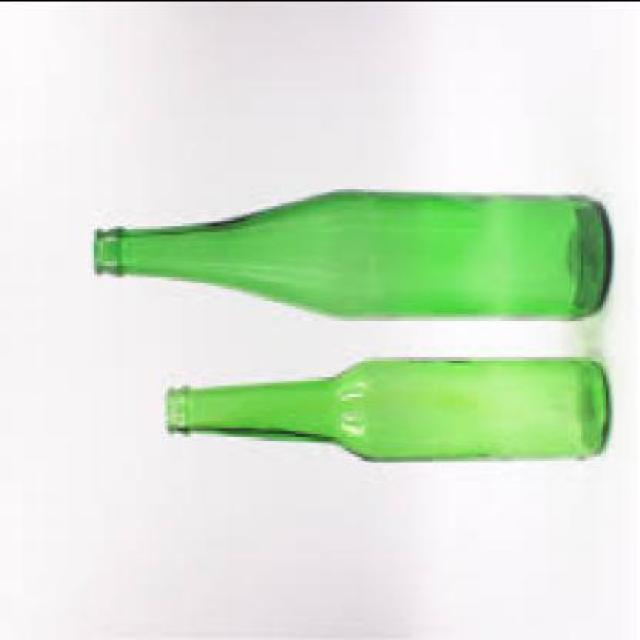glass: (92, 193, 610, 324), (163, 359, 606, 463)
